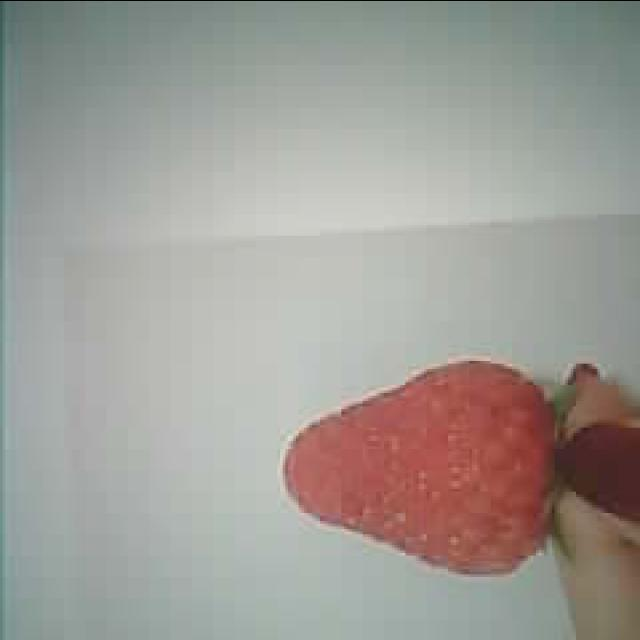strawberry: (282, 359, 556, 577)
